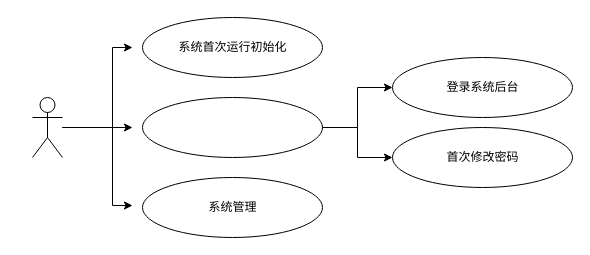
Image size: 590x255. Some labels were removed from this diagram. Here are the shapes that lost their labels. From the top down, the box of each, then its label:
(32, 96, 62, 158): 系统管理员
(142, 96, 322, 158): 首次登录修改密码
